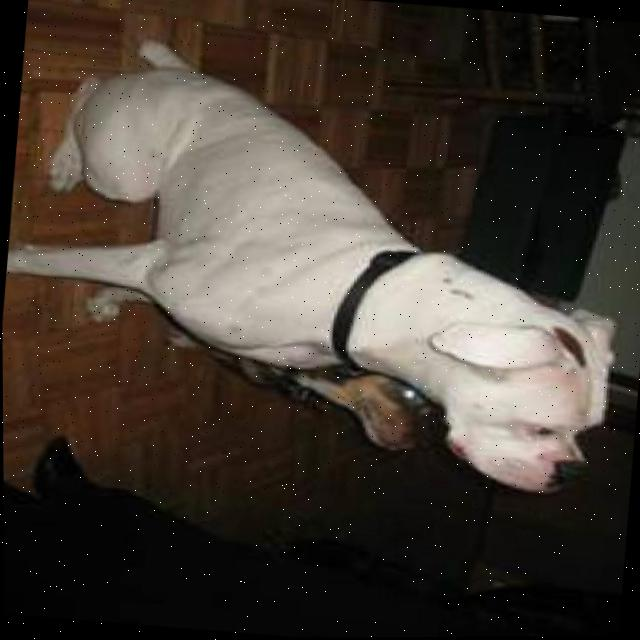dogs: (0, 32, 634, 506)
